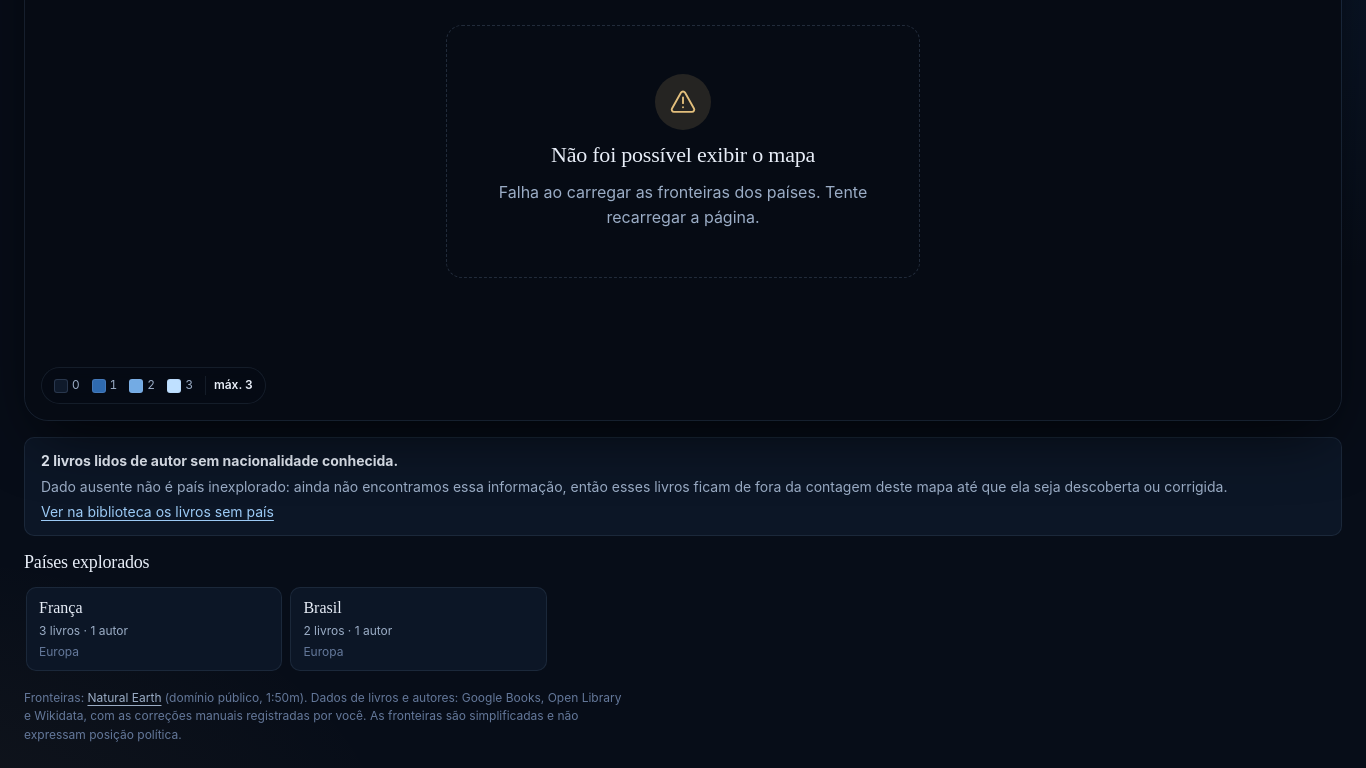
Test: MapPage (URL e seleção) › selecionar pela lista alternativa abre o painel
(page scrolled)
Click the button "Brasil 2 livros · 1 autor Europa".
click(419, 629)  # box [290,587,547,671]
(page scrolled)
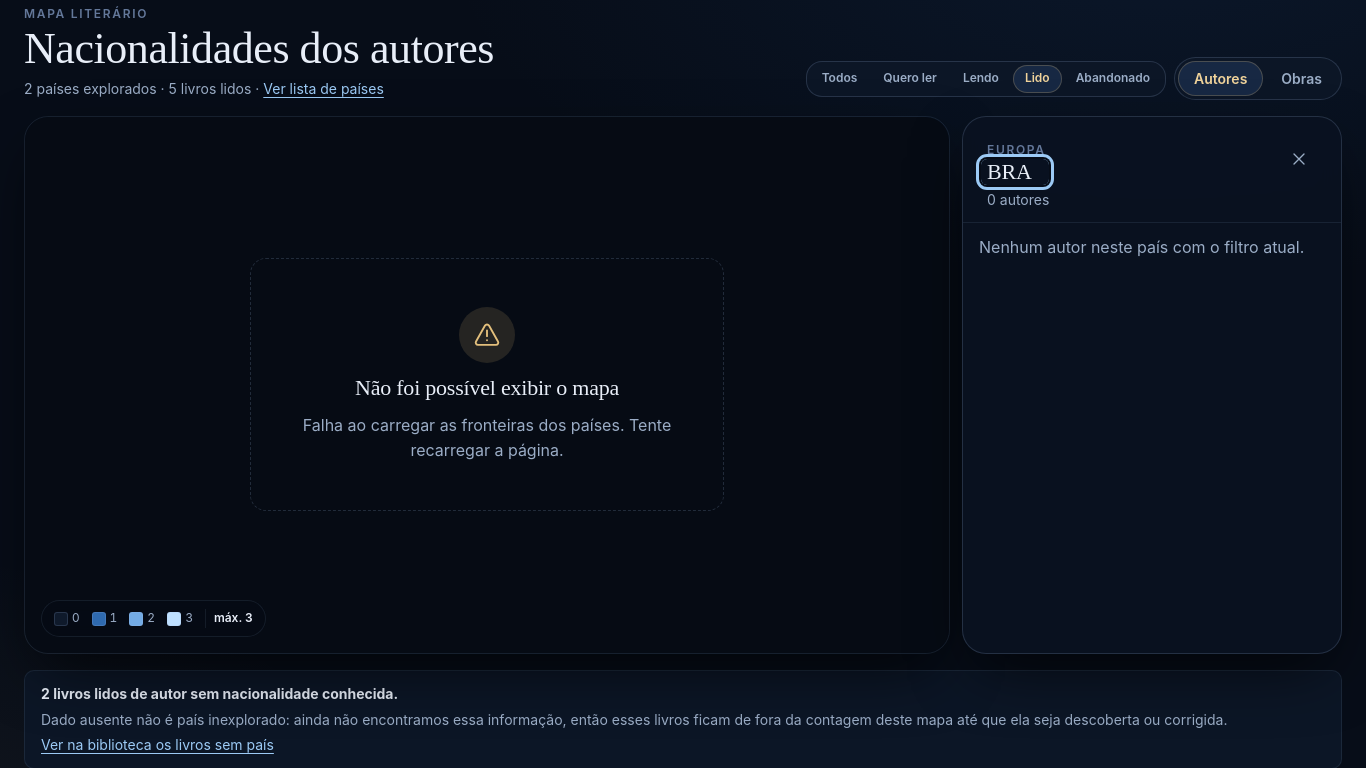
Check: the heading "BRA" is shown, box [981,160,1049,185]
Check: the dialog with test id "country-panel" is shown, box [962,116,1342,654]
